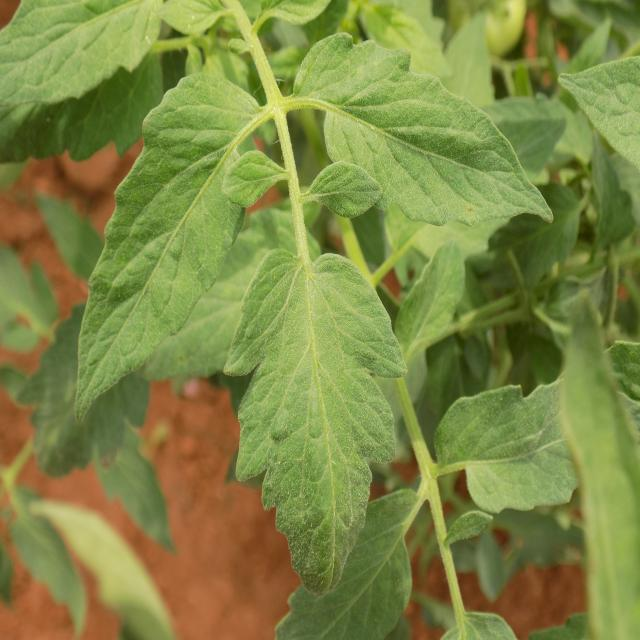tomato_healthy: (75, 62, 263, 414), (228, 241, 402, 597), (290, 24, 560, 230), (433, 376, 609, 510)
